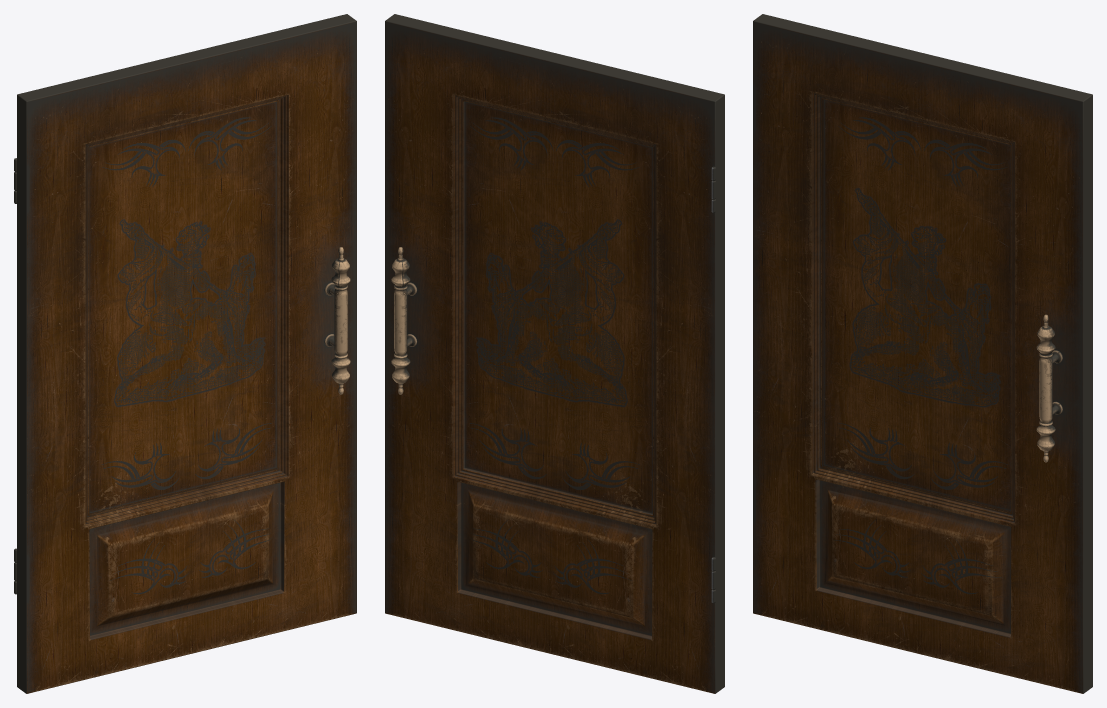
File: door.glb
The picture shows the model from 3 angles, left to right: view 1: azimuth 30°, elevation 25°; view 2: azimuth 150°, elevation 25°; view 3: azimuth 330°, elevation 25°; orthographic projection.
Visible parts, largest first — view 1: Door_2_Door_0.001; view 2: Door_2_Door_0.001; view 3: Door_2_Door_0.001.
Part boxes in pixels (x1=…): Door_2_Door_0.001: x1=14, y1=14, x2=356, y2=693; Door_2_Door_0.001: x1=385, y1=14, x2=724, y2=693; Door_2_Door_0.001: x1=753, y1=14, x2=1092, y2=693.
Size of the model in its own units: 2.11 by 3.59 by 0.445.
1 material, 1 textured.
